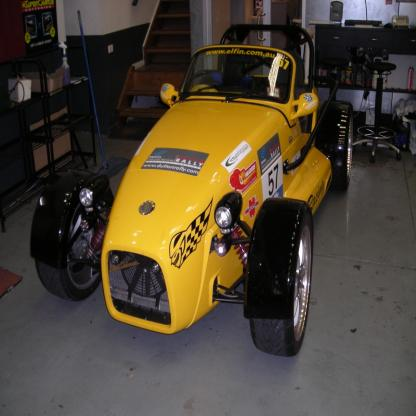Car: (31, 25, 354, 359)
